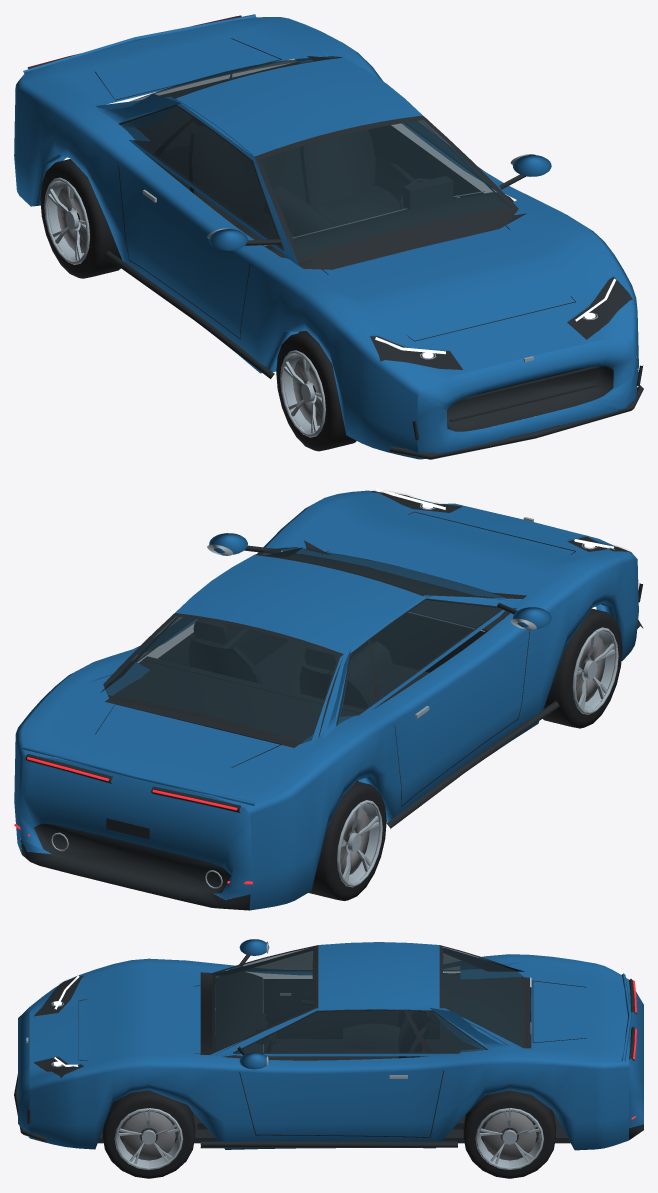
File: velara-lod1.glb
3 renders of one model, top to bottom at view 1: azimuth 30°, elevation 25°; view 2: azimuth 150°, elevation 25°; view 3: azimuth 270°, elevation 25°, orthographic. The views are drawn at different scales.
Visible parts, largest first — view 1: sculpted-coachwork_merged, carbon-rear-valance_merged, panoramic-windscreen_merged, profiled-tire (×2), rim-barrel_merged (×2), ventilated-brake-rotor (×2); view 2: sculpted-coachwork_merged, carbon-rear-valance_merged, panoramic-windscreen_merged, profiled-tire (×2), rim-barrel_merged (×2), ventilated-brake-rotor (×2), door-release_merged, rear-light-guide_merged; view 3: sculpted-coachwork_merged, carbon-rear-valance_merged, panoramic-windscreen_merged, profiled-tire (×2), rim-barrel_merged (×2), ventilated-brake-rotor (×2).
Part boxes in pixels (x1,y1,x2,y2): sculpted-coachwork_merged: [14, 14, 638, 459]; carbon-rear-valance_merged: [27, 15, 643, 459]; panoramic-windscreen_merged: [120, 56, 510, 257]; profiled-tire (×2): [40, 159, 356, 451]; rim-barrel_merged (×2): [44, 177, 325, 437]; ventilated-brake-rotor (×2): [57, 185, 322, 425]; sculpted-coachwork_merged: [14, 490, 638, 910]; carbon-rear-valance_merged: [21, 491, 643, 910]; panoramic-windscreen_merged: [105, 548, 506, 742]; profiled-tire (×2): [308, 608, 622, 900]; rim-barrel_merged (×2): [337, 627, 618, 887]; ventilated-brake-rotor (×2): [340, 636, 605, 874]; door-release_merged: [51, 502, 597, 888]; rear-light-guide_merged: [14, 757, 252, 884]; sculpted-coachwork_merged: [18, 939, 643, 1150]; carbon-rear-valance_merged: [14, 945, 643, 1148]; panoramic-windscreen_merged: [215, 947, 522, 1052]; profiled-tire (×2): [102, 1090, 555, 1178]; rim-barrel_merged (×2): [114, 1108, 543, 1169]; ventilated-brake-rotor (×2): [122, 1111, 536, 1160].
Size of what is drawn, in the model's own units: 2.19 by 1.26 by 4.63.
